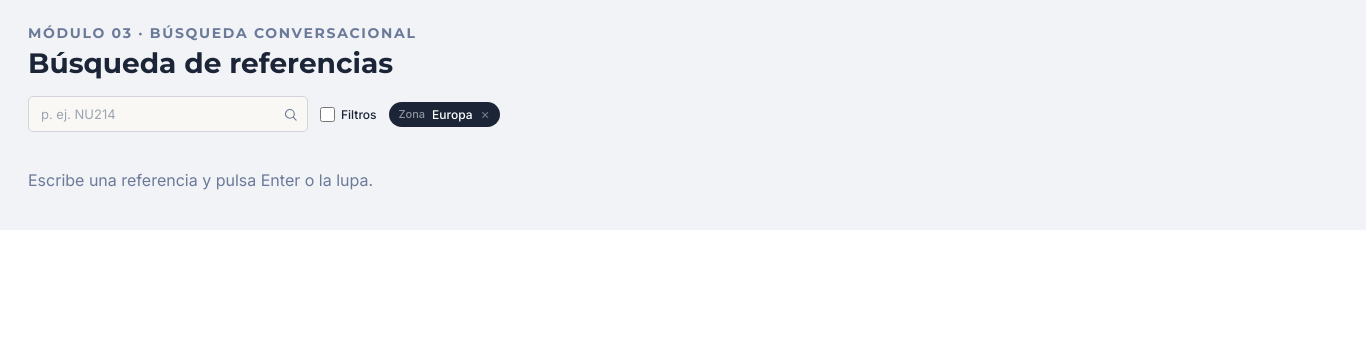
fases B y C · selección y ofertas › volver a la lista previa conserva las casillas marcadas
The image size is (1366, 356).
Type "6204" into the search field named "Referencia".
click(168, 114); type("6204")  # box [28, 96, 308, 132]
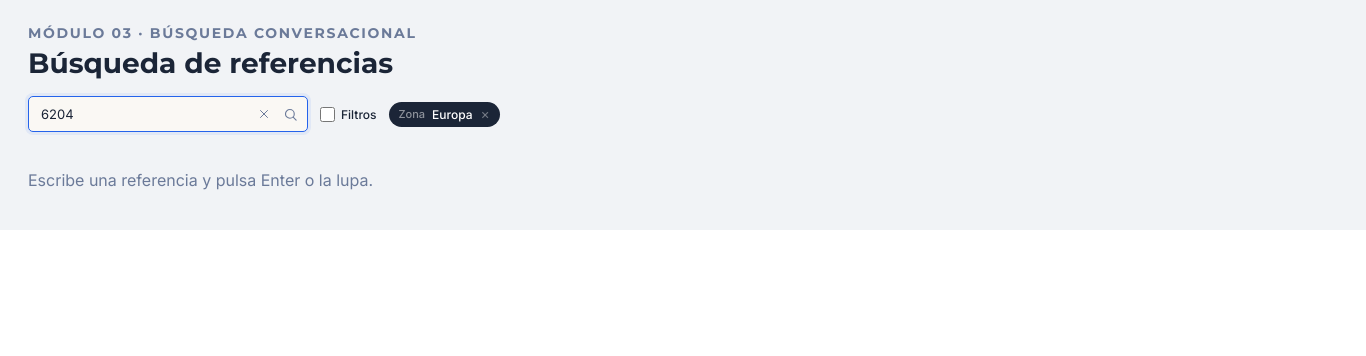
Click the button named "Buscar referencia".
click(290, 114)  # box [276, 100, 304, 128]
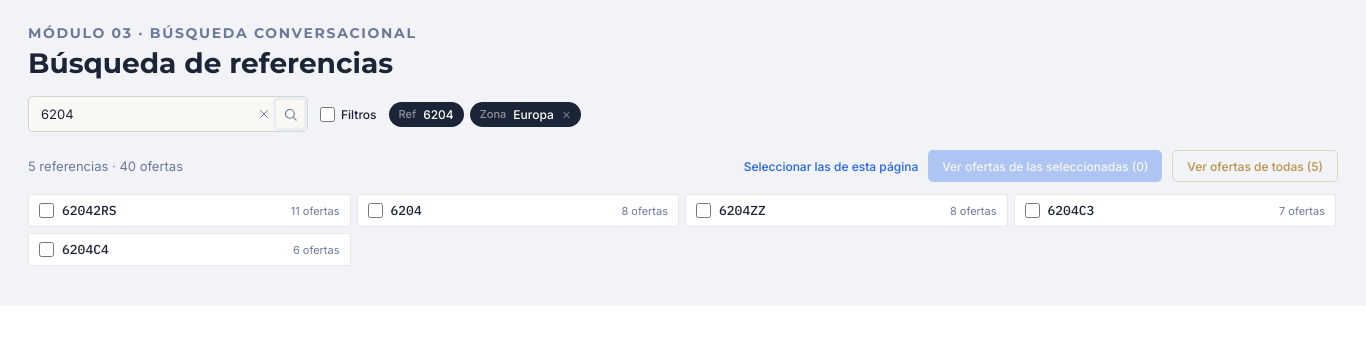
Click the checkbox labelled "6204C3 7 ofertas".
click(1032, 210)  # box [1024, 203, 1040, 218]
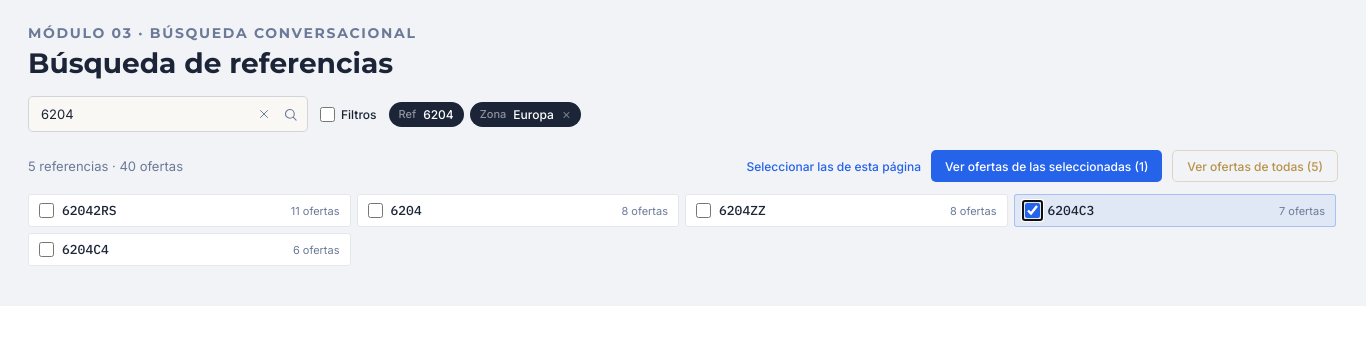
Click the button "Ver ofertas de las seleccionadas (1)".
click(1047, 166)  # box [931, 150, 1162, 182]
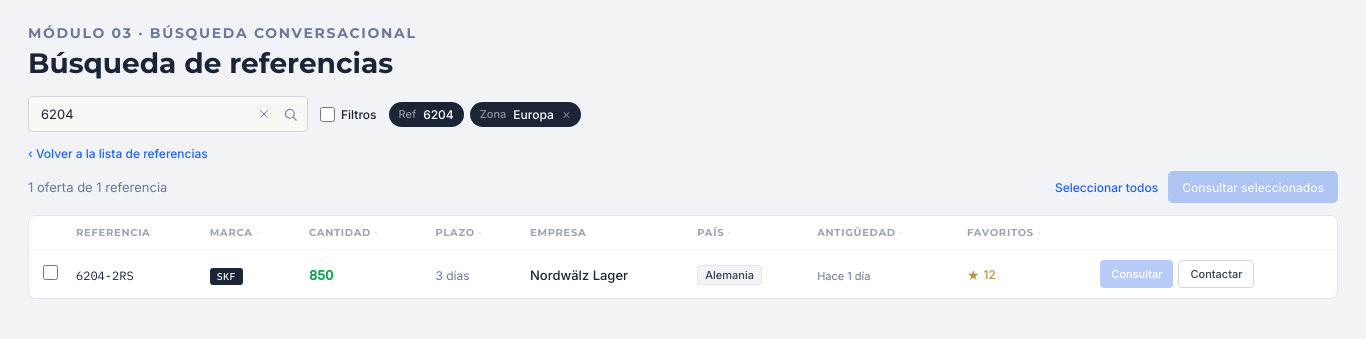
Click the button "‹ Volver a la lista de referencias".
click(118, 154)  # box [28, 146, 208, 161]
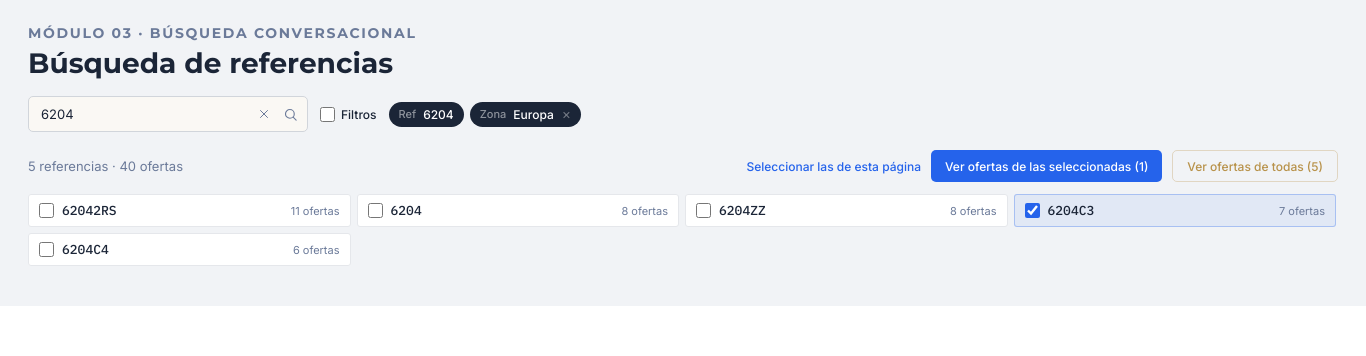
Result: the checkbox labelled "6204C3 7 ofertas" is checked at [1024, 203, 1040, 218]
